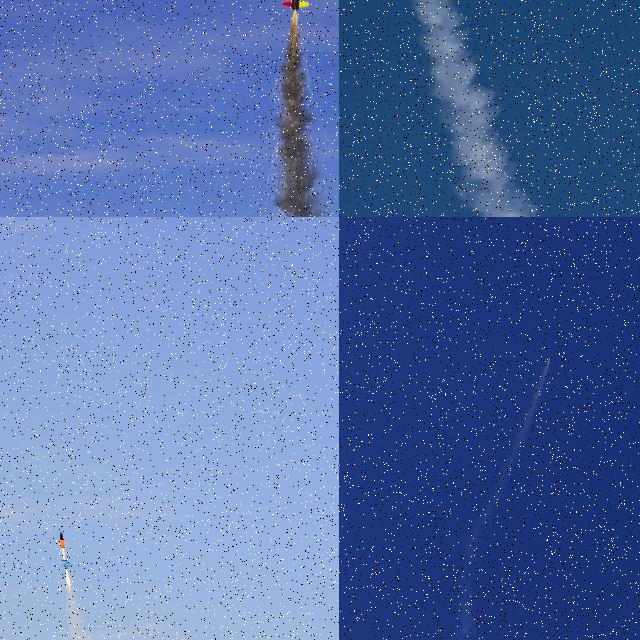Rocket: (59, 531, 74, 569), (546, 357, 552, 363)
